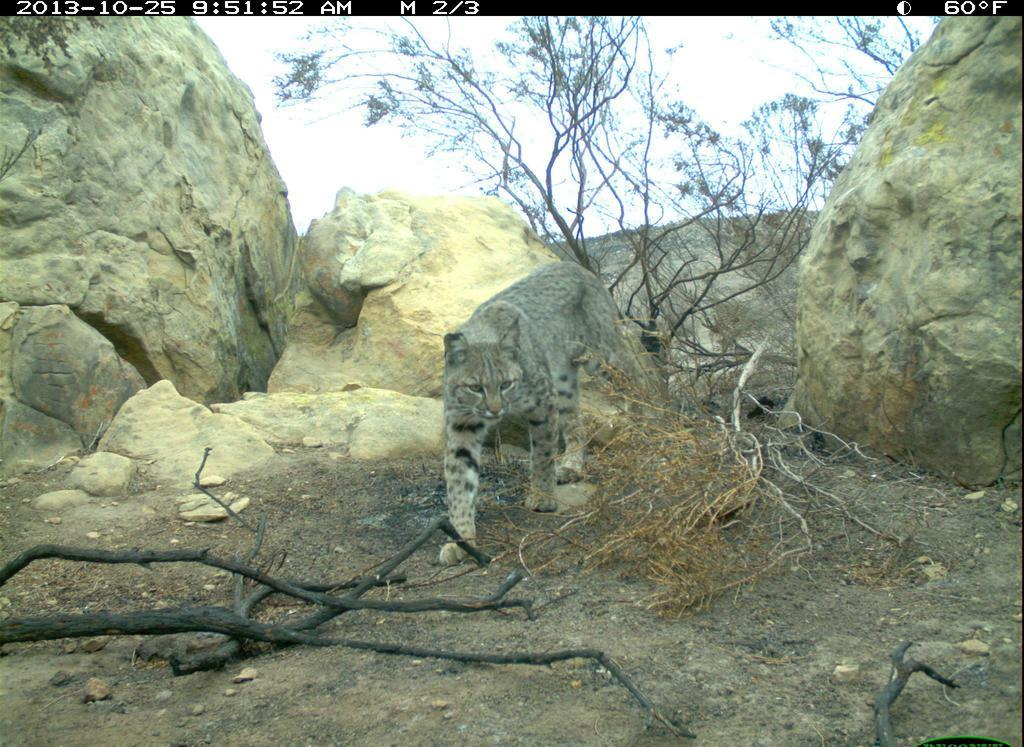bobcat: (428, 251, 653, 577)
